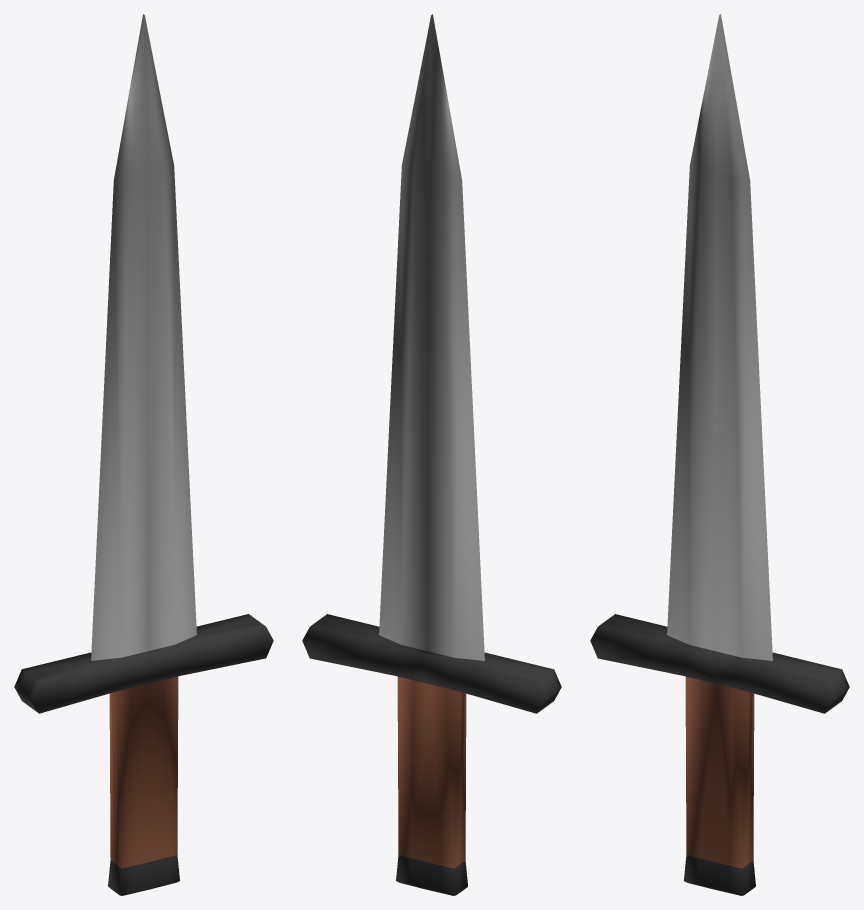
Rendered from SteelDagger.fbx.
3 views of the same model, side by side, from view 1: azimuth 30°, elevation 25°; view 2: azimuth 150°, elevation 25°; view 3: azimuth 330°, elevation 25° (orthographic).
Visible parts, largest first — view 1: IronDagger01_LOD0; view 2: IronDagger01_LOD0; view 3: IronDagger01_LOD0.
Boxes of the visible parts, x1=… form: IronDagger01_LOD0: x1=14, y1=14, x2=273, y2=895; IronDagger01_LOD0: x1=302, y1=14, x2=561, y2=895; IronDagger01_LOD0: x1=590, y1=14, x2=849, y2=895.
Size of the model in its own units: 16 by 55 by 2.
